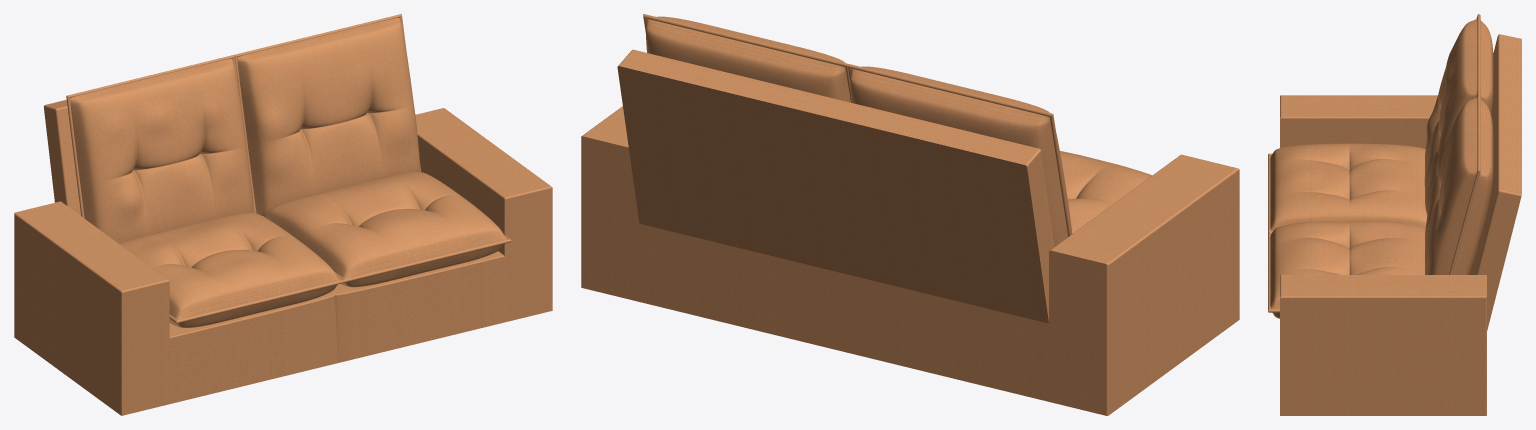
File: Sofá com Displacement.glb
3 renders of one model, left to right at view 1: azimuth 30°, elevation 25°; view 2: azimuth 150°, elevation 25°; view 3: azimuth 270°, elevation 25°, orthographic. The views are drawn at different scales.
Visible parts, largest first — view 1: Sofá\Sólido (4), Sofá\Sólido (3), Componente2\Sólido11, Componente1\Sólido, Sofá\Sólido (2), Sofá\Sólido, Componente2\Sólido11 (2), Sólido1\Sólido1; view 2: Sólido1\Sólido1, Componente2\Sólido11, Componente1\Sólido, Sofá\Sólido (3), Componente2\Sólido11 (2), Sofá\Sólido (4), Sofá\Sólido; view 3: Componente2\Sólido11 (2), Sofá\Sólido, Sofá\Sólido (4), Sofá\Sólido (2), Componente2\Sólido11, Sólido1\Sólido1, Sofá\Sólido (3).
Boxes of the visible parts, x1,y1,x2,y2 form: Sofá\Sólido (4): (234,14,421,215); Sofá\Sólido (3): (66,55,254,243); Componente2\Sólido11: (14,201,169,415); Componente1\Sólido: (169,251,504,403); Sofá\Sólido (2): (263,172,511,287); Sofá\Sólido: (118,212,344,327); Componente2\Sólido11 (2): (415,108,552,322); Sólido1\Sólido1: (43,100,81,215); Sólido1\Sólido1: (617,49,1054,323); Componente2\Sólido11: (1049,154,1239,415); Componente1\Sólido: (639,223,1048,401); Sofá\Sólido (3): (847,64,1072,246); Componente2\Sólido11 (2): (581,106,639,301); Sofá\Sólido (4): (643,14,851,102); Sofá\Sólido: (1060,151,1151,233); Componente2\Sólido11 (2): (1280,275,1486,415); Sofá\Sólido: (1268,143,1427,232); Sofá\Sólido (4): (1425,92,1493,274); Sofá\Sólido (2): (1268,221,1425,318); Componente2\Sólido11: (1280,95,1437,148); Sólido1\Sólido1: (1469,34,1521,330); Sofá\Sólido (3): (1424,14,1493,214).
Bounding box in the file's own units: 3.93 × 2.02 × 2.09.
1 material, 1 textured.
